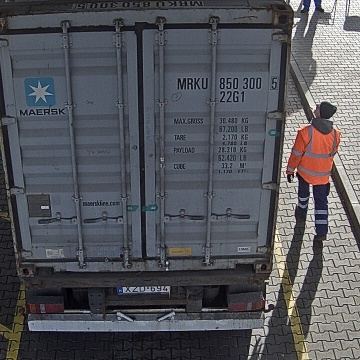serial_id: (177, 77, 277, 90)
